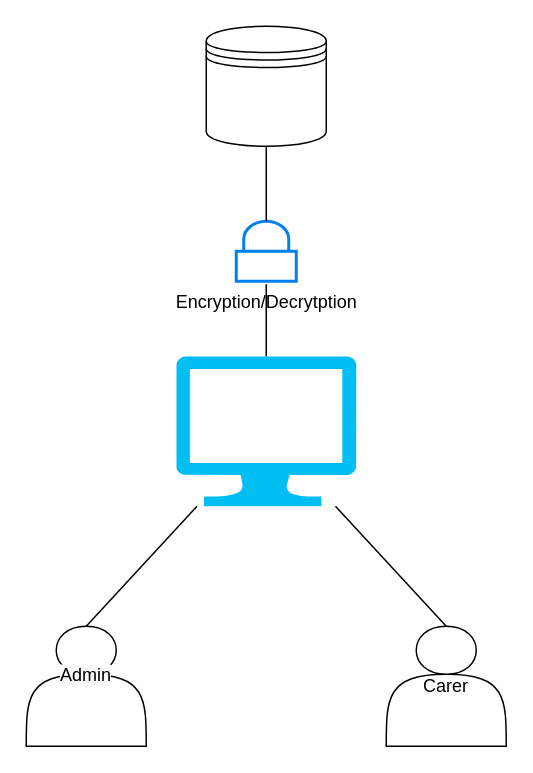
The diagram is 533 pixels wide and 773 high, and some of its shapes have lost their labels. Here are the shapes that lost their labels. From the top down, the centre of each, then its label:
At pixel 265 85: "Database".
At pixel 266 431: "Elderly Care Management System".
